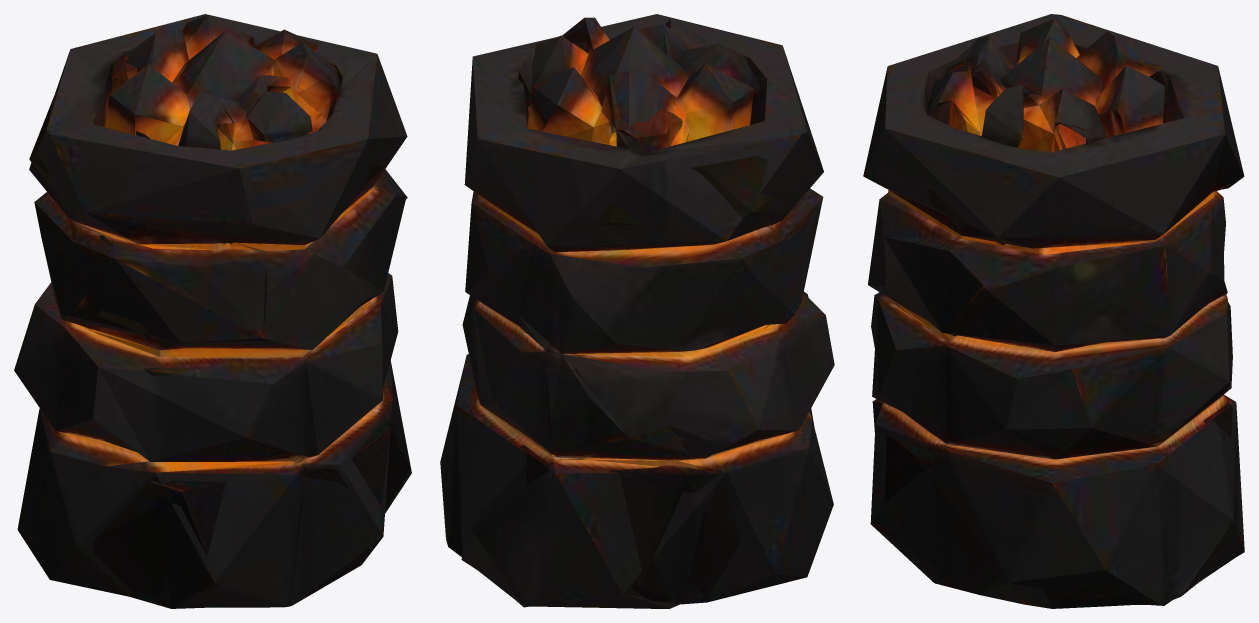
The model's file is d_braises_pilier_charbon.glb.
3 renders of one model, left to right at view 1: azimuth 30°, elevation 25°; view 2: azimuth 150°, elevation 25°; view 3: azimuth 270°, elevation 25°, orthographic.
Parts seen in each view (by area): view 1: geometry_0; view 2: geometry_0; view 3: geometry_0.
Part boxes in pixels (x1,y1,x2,y2): geometry_0: (14,14,411,608); geometry_0: (440,14,834,608); geometry_0: (863,14,1244,608).
Size of the model in its own units: 0.6961 by 0.9989 by 0.6777.
Materials: 1 (1 with a texture image).
